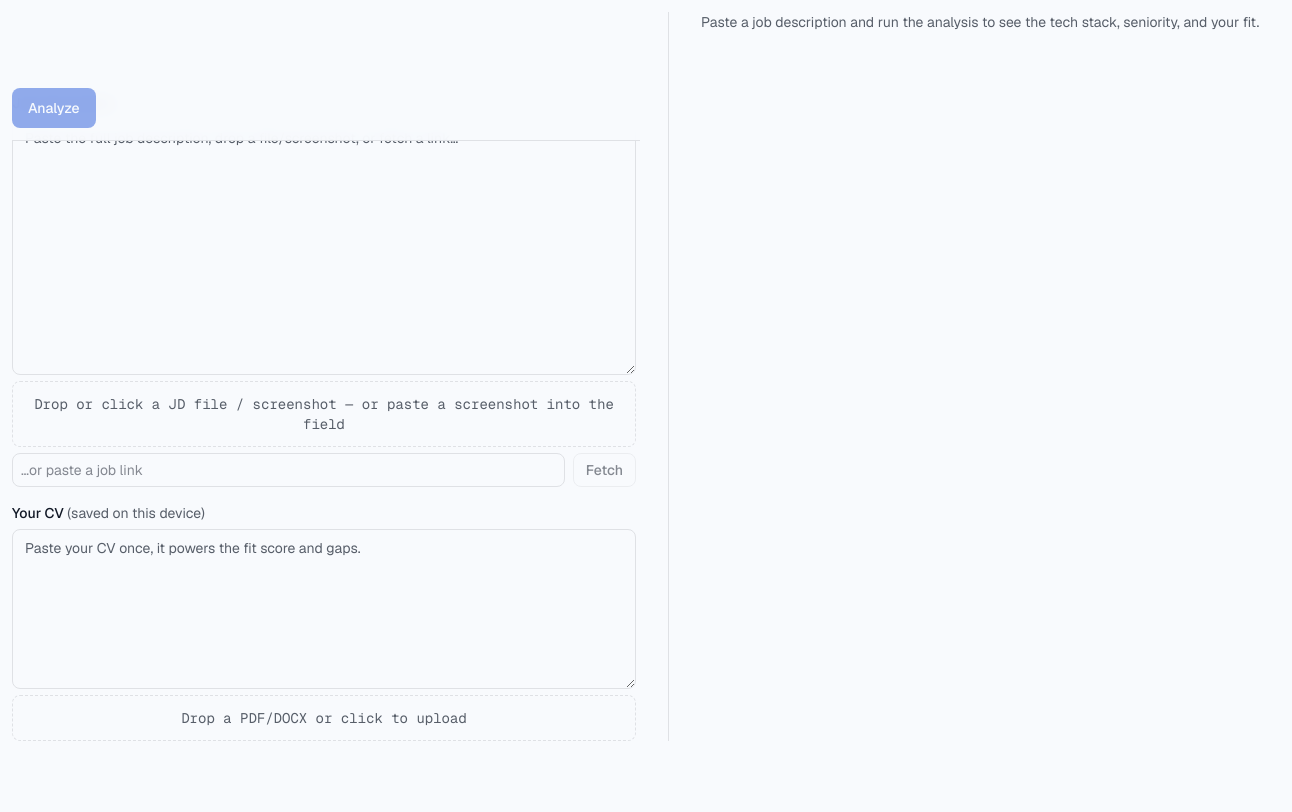
AnalyzeView › keeps Analyze disabled until the JD is long enough
Expected: the button "Analyze" is disabled, [12,88,96,128]
Replace the text in the text box labelled "Job description" with "Senior React engineer building streaming UIs on AWS." at x=324, y=247, box [12,119,636,375]
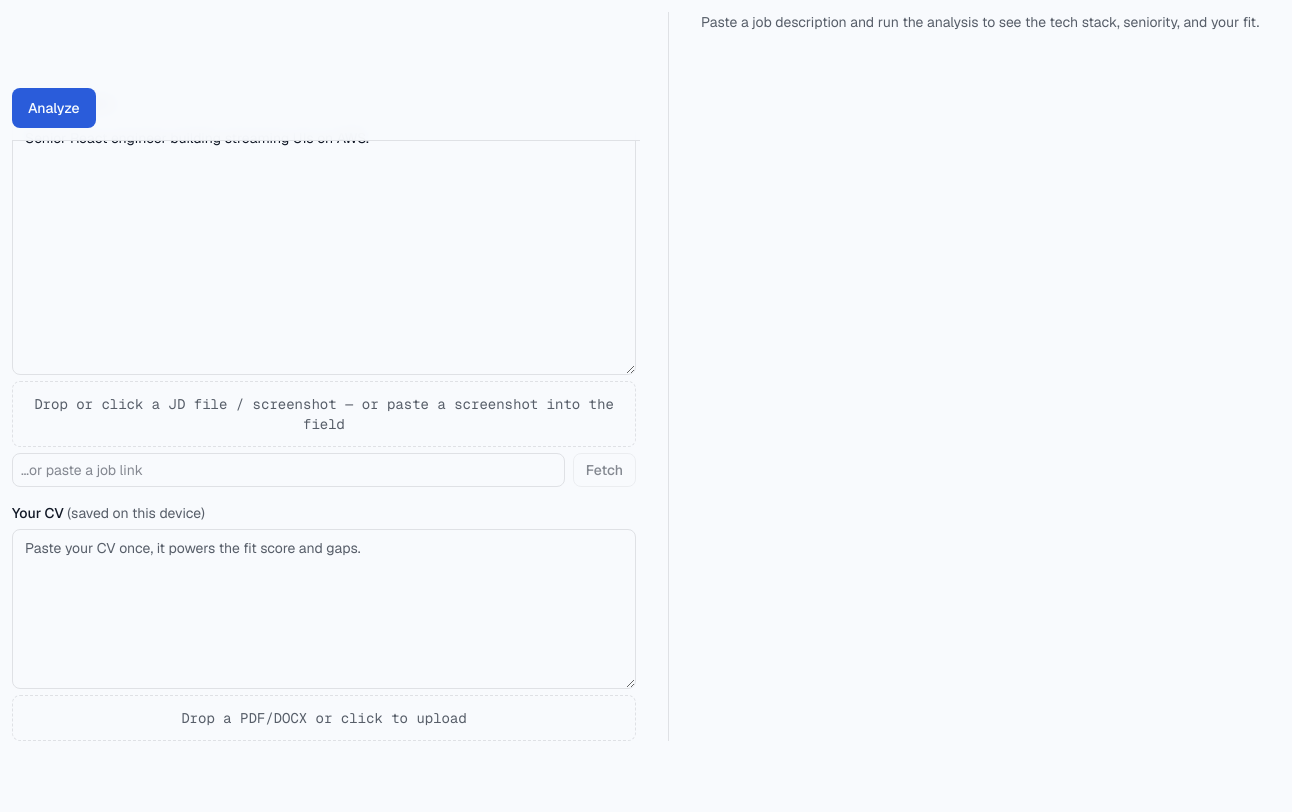
Now the button "Analyze" is enabled, box [12,88,96,128]
